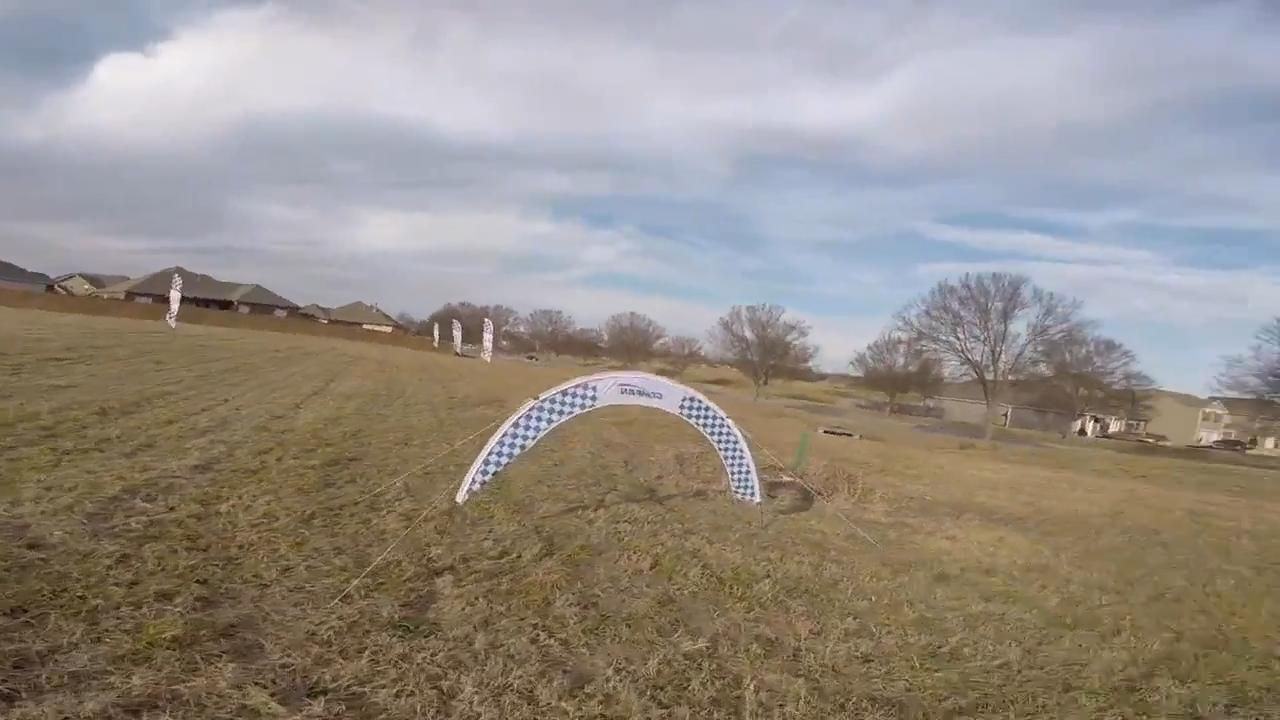gate: (449, 365, 762, 510)
